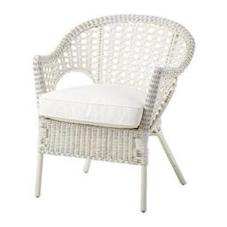chair: (18, 8, 202, 215)
